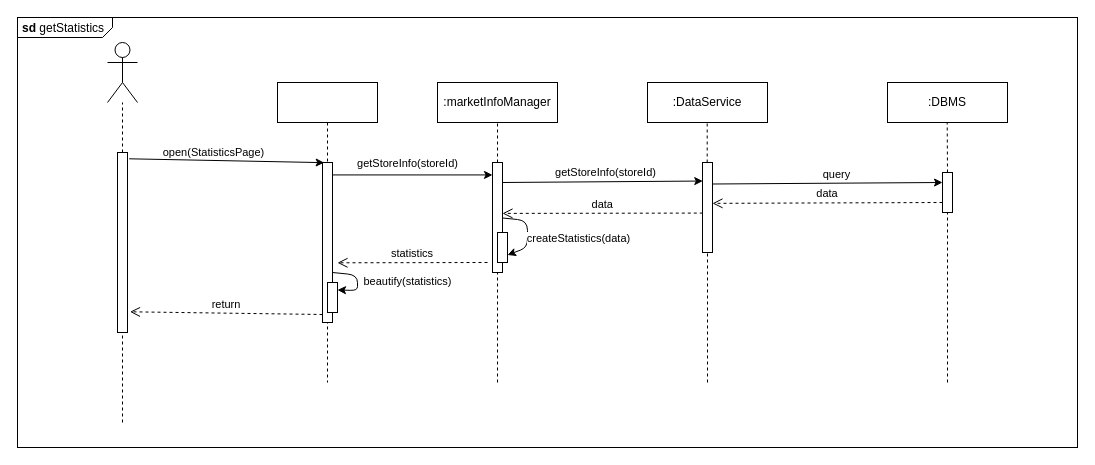
Some shapes in this 1095 by 465 pixel diagram are drawn without their labels. Each missing label, with the box of its shape:
:StoreManager: (106, 42, 138, 102)
:webServer: (276, 82, 378, 382)
